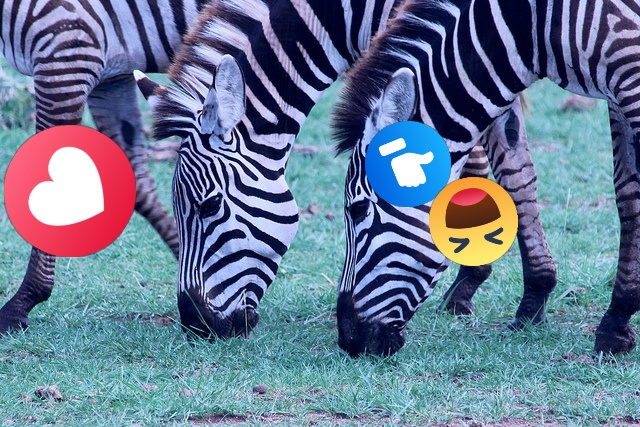haha: (429, 177, 518, 266)
like: (365, 121, 451, 207)
love: (4, 125, 136, 257)
